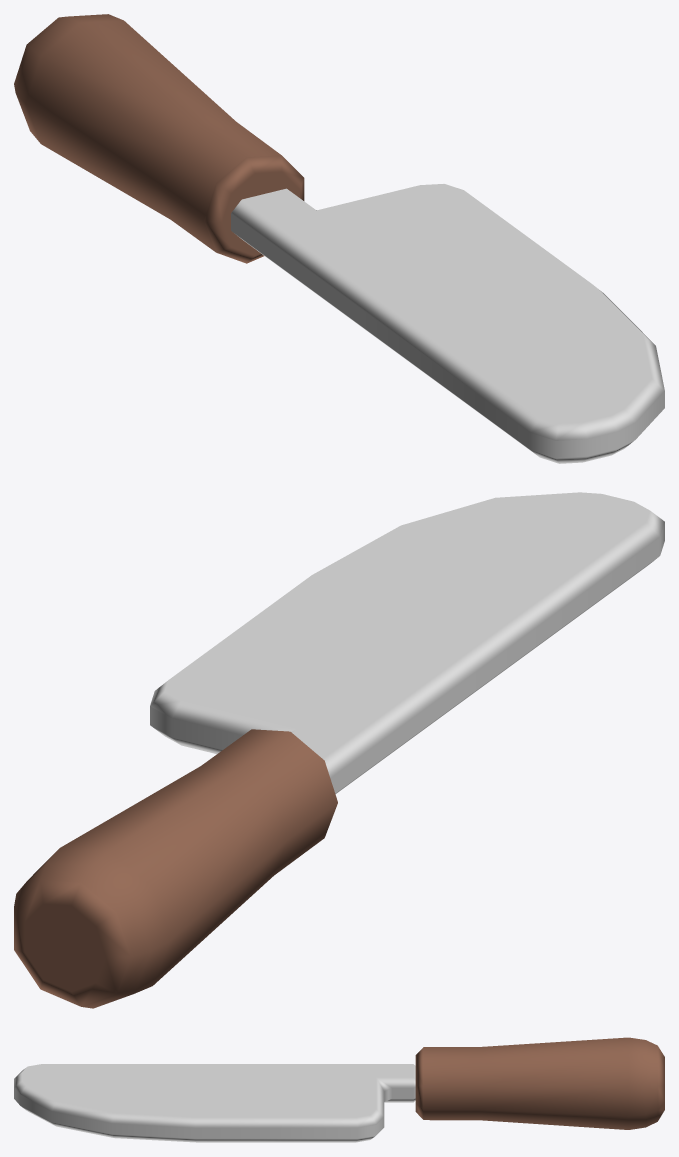
The model's file is Knife.fbx.
3 renders of one model, top to bottom at view 1: azimuth 30°, elevation 25°; view 2: azimuth 150°, elevation 25°; view 3: azimuth 270°, elevation 25°, orthographic. The views are drawn at different scales.
Visible parts, largest first — view 1: Knife; view 2: Knife; view 3: Knife.
Part boxes in pixels (x1=…): Knife: x1=14, y1=14, x2=664, y2=463; Knife: x1=14, y1=492, x2=664, y2=1008; Knife: x1=14, y1=1037, x2=664, y2=1142.
Size of the model in its own units: 6.29 by 3.52 by 24.66.
